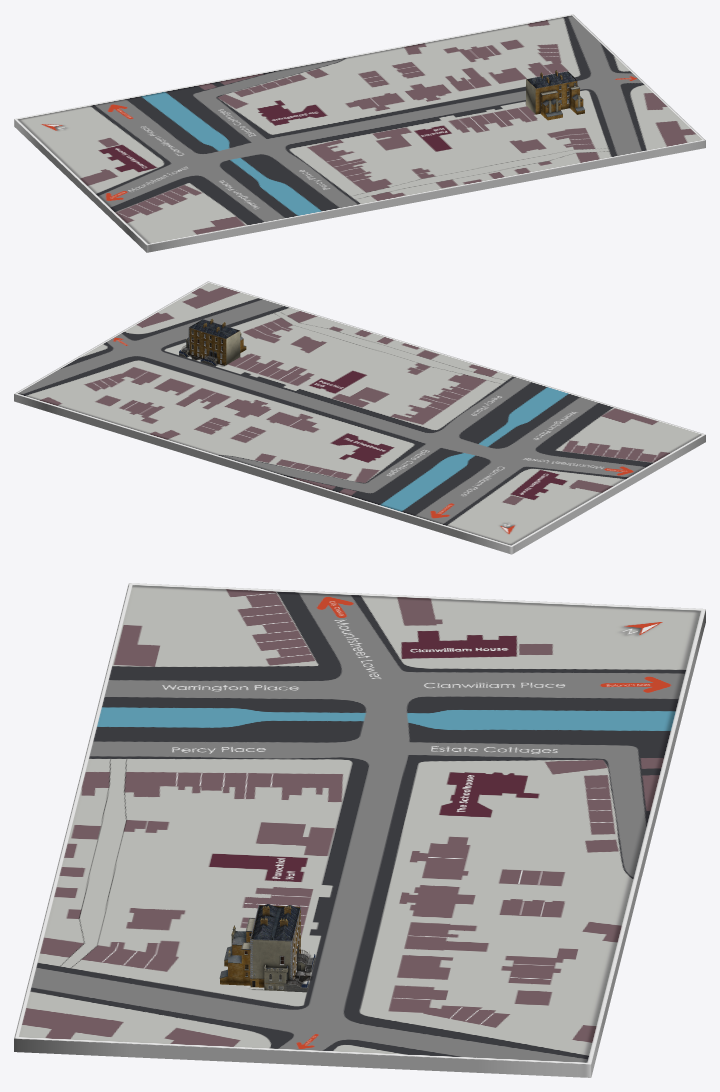
File: 25north_map.glb
The picture shows the model from 3 angles, top to bottom: view 1: azimuth 30°, elevation 25°; view 2: azimuth 150°, elevation 25°; view 3: azimuth 270°, elevation 25°; orthographic projection. The views are drawn at different scales.
Parts seen in each view (by area): view 1: Plane001, 21-25House; view 2: Plane001, 21-25House; view 3: Plane001, 21-25House.
Part boxes in pixels (x1=…): Plane001: x1=14, y1=14, x2=705, y2=252; 21-25House: x1=525, y1=70, x2=584, y2=120; Plane001: x1=14, y1=281, x2=705, y2=554; 21-25House: x1=179, y1=318, x2=246, y2=366; Plane001: x1=14, y1=583, x2=705, y2=1077; 21-25House: x1=219, y1=904, x2=315, y2=992.
Bounding box in the file's own units: 269 × 18.38 × 163.
21 materials, 16 textured.
